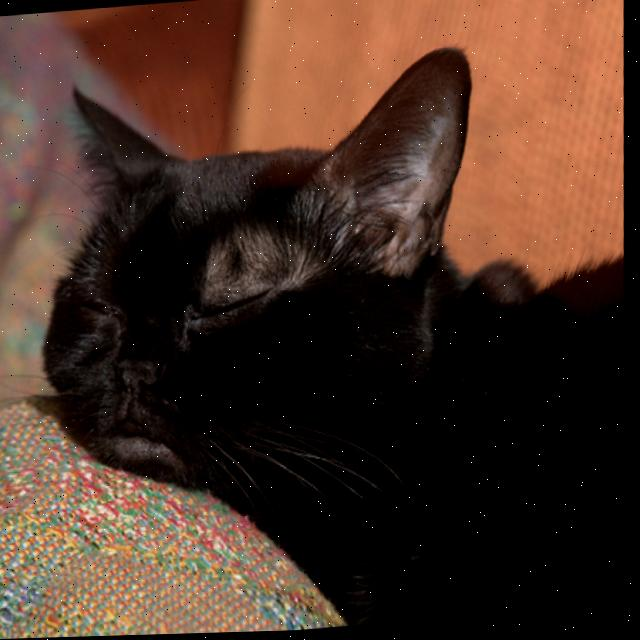Bombay: (14, 29, 638, 639)
